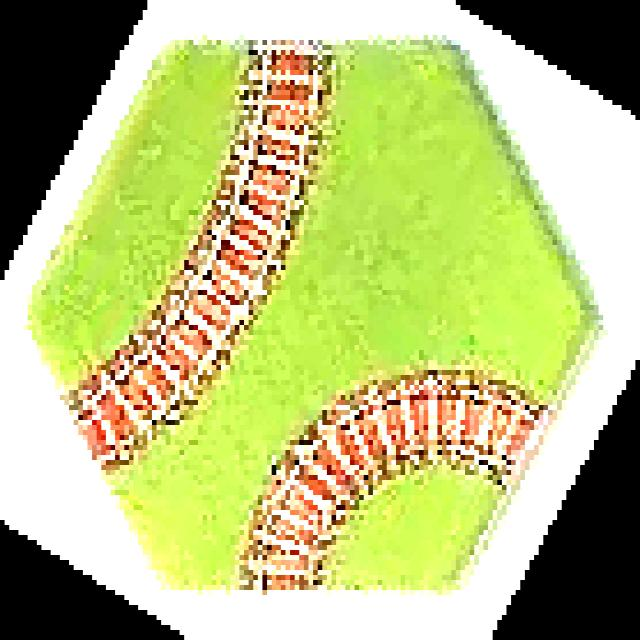5_1: (24, 36, 599, 595)
